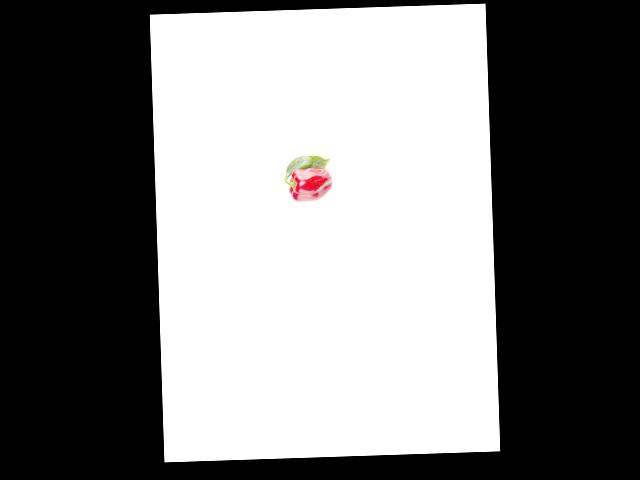bell_pepper: (284, 164, 334, 206)
